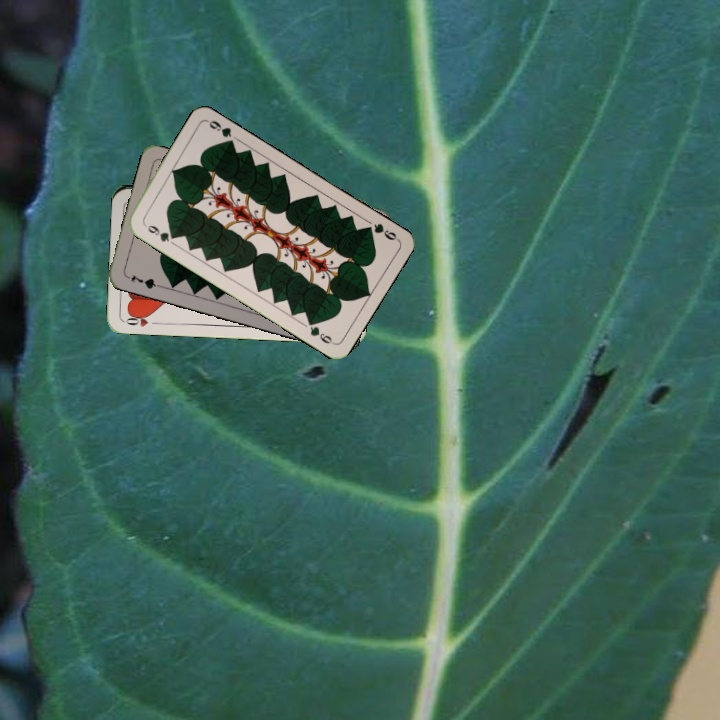G7: (122, 270, 162, 292)
G9: (360, 219, 401, 243), (140, 220, 179, 245)
HO: (121, 310, 161, 329)
